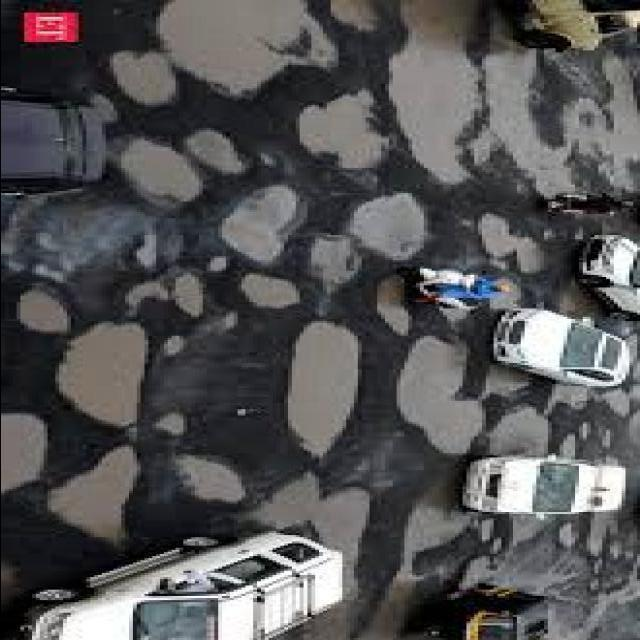pothole: (158, 1, 338, 96), (389, 0, 481, 183), (356, 505, 464, 639), (255, 472, 369, 593), (485, 50, 574, 198), (565, 51, 640, 189), (398, 336, 484, 454), (288, 321, 359, 456), (48, 445, 140, 547), (56, 322, 145, 427), (299, 90, 389, 169), (221, 185, 308, 264), (120, 138, 202, 202), (350, 192, 424, 261), (548, 585, 640, 640), (460, 539, 551, 593), (479, 214, 544, 273), (1, 414, 48, 492), (110, 51, 176, 106), (126, 272, 204, 317), (176, 455, 245, 503), (310, 235, 361, 294), (489, 406, 548, 456), (185, 129, 246, 174), (18, 288, 70, 333), (376, 275, 411, 336), (241, 274, 300, 308), (579, 512, 618, 556), (330, 0, 378, 31), (175, 272, 204, 318), (548, 384, 588, 413), (508, 515, 542, 542), (601, 389, 630, 417), (154, 412, 186, 436), (559, 432, 575, 458)
